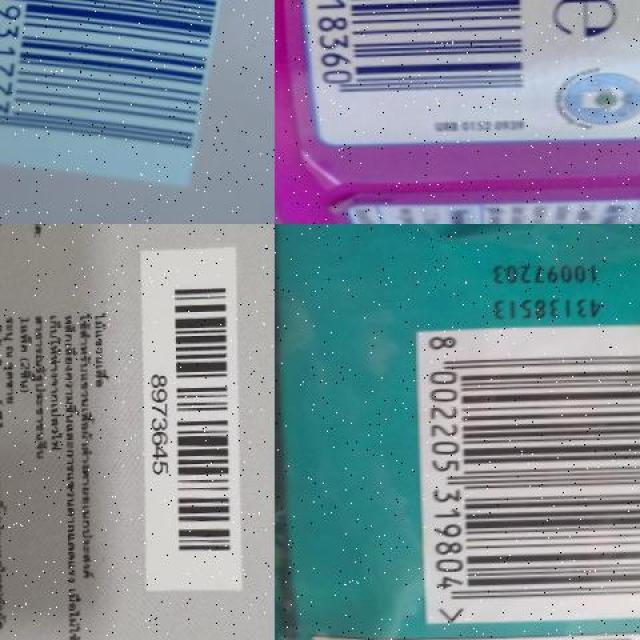Barcode: (414, 324, 640, 626), (0, 0, 256, 193), (143, 278, 237, 566), (304, 0, 529, 111)
